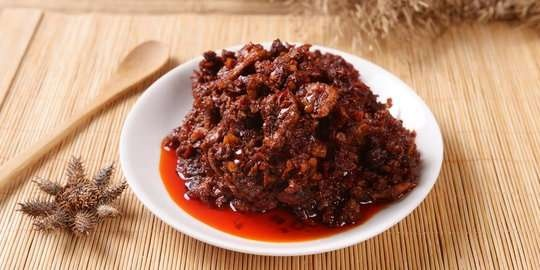sambal: (167, 39, 422, 232)
